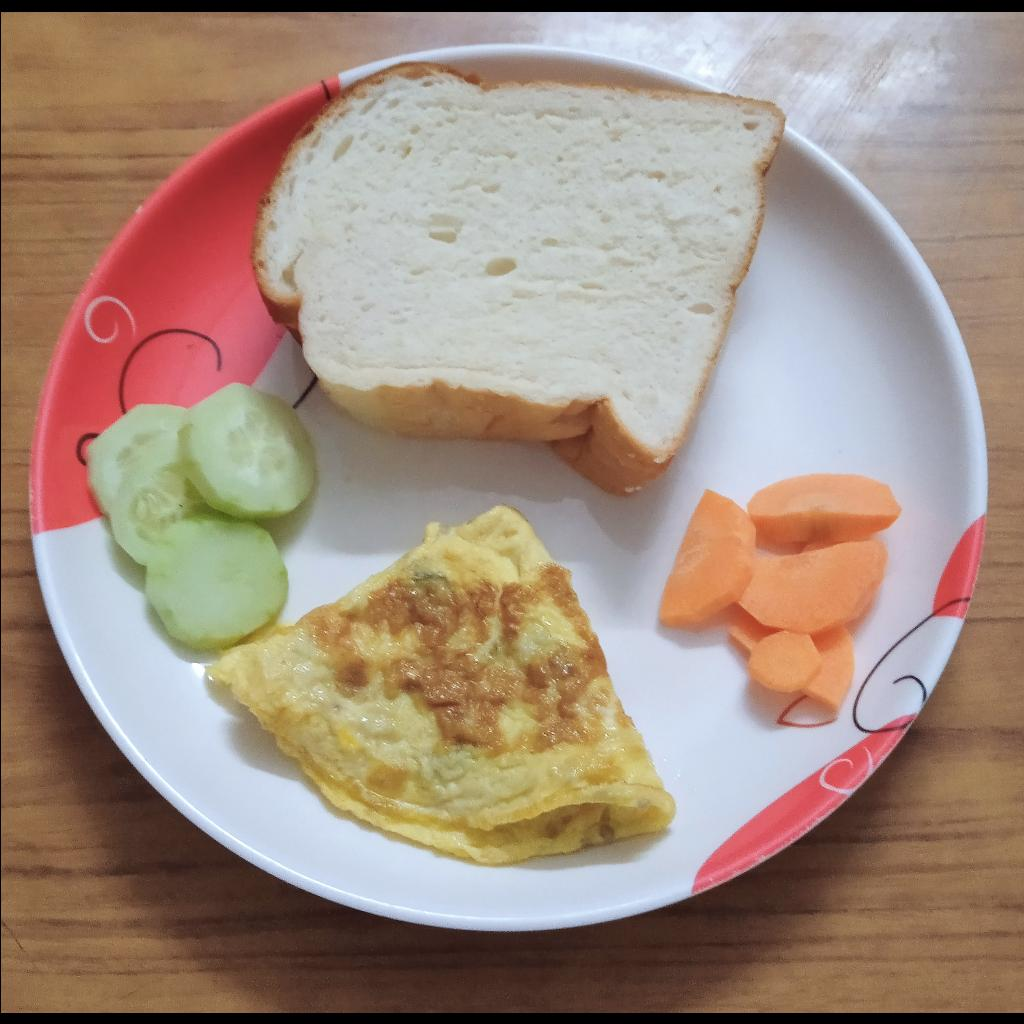bread: (254, 57, 785, 494)
carrot: (657, 467, 905, 719)
cucumber: (83, 377, 321, 647)
egg-poached: (203, 502, 678, 868)
